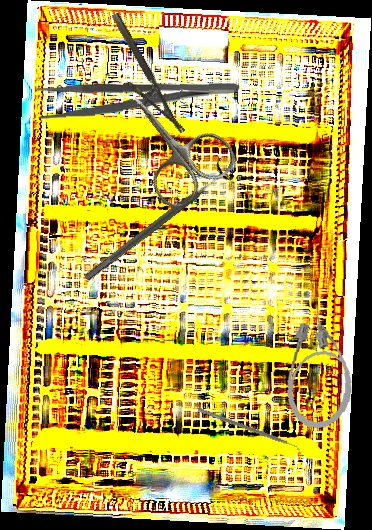Cannula: (282, 302, 361, 433)
Dressing Forceps: (33, 78, 242, 121)
Fixation Ring: (77, 156, 237, 290)
Iris Scissors: (101, 70, 243, 216)
Needle Holder: (94, 11, 186, 145)
Spatula Surgical: (195, 407, 303, 454)
